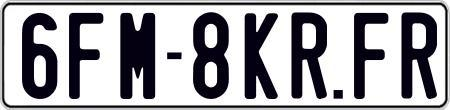6: (21, 10, 60, 97)
8: (190, 12, 230, 99)
F: (66, 11, 103, 102), (351, 11, 388, 98)
K: (244, 12, 280, 101)
M: (119, 11, 155, 100)
R: (288, 9, 327, 102), (401, 9, 435, 96)
